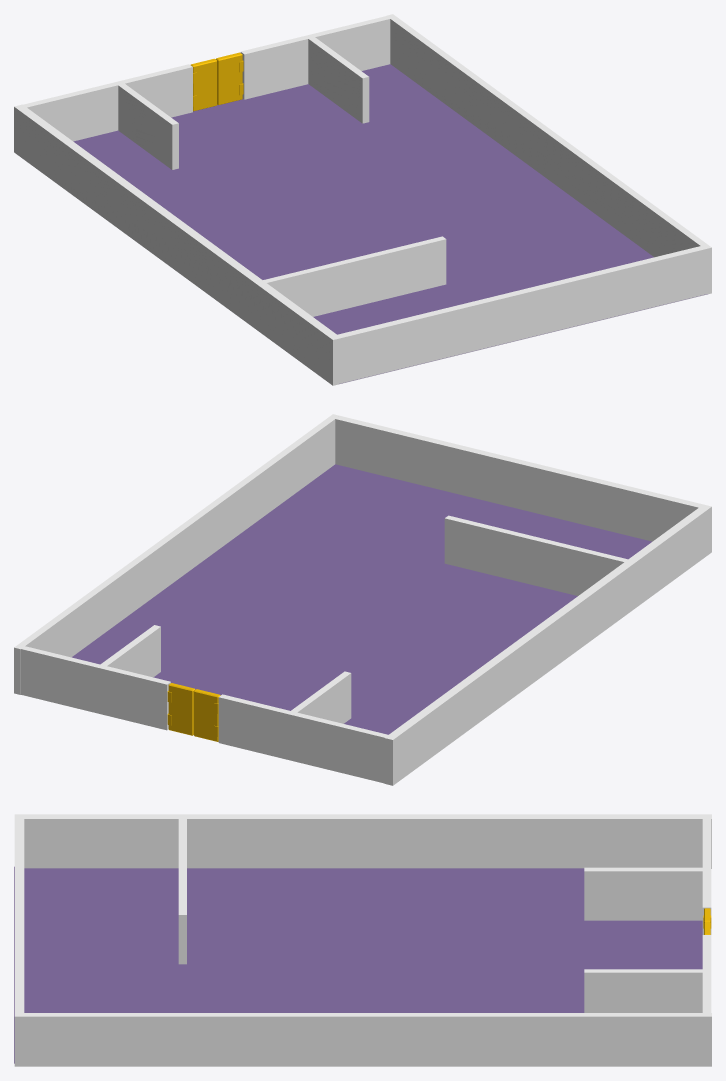
Rendered from maps_69.fbx.
3 views of the same model, one above another, from view 1: azimuth 30°, elevation 25°; view 2: azimuth 150°, elevation 25°; view 3: azimuth 270°, elevation 25° (orthographic). The views are drawn at different scales.
Visible parts, largest first — view 1: wall_01_08_geo, wall_01_05_geo, wall_01_07_geo, wall_01_06_geo, wall_01_11_geo13, wall_01_09_geo1, wall_01_09_geo, wall_01_11_geo19, wall_01_11_geo21, polySurface161, polySurface165; view 2: wall_01_08_geo, wall_01_07_geo, wall_01_05_geo, wall_01_06_geo, wall_01_09_geo, wall_01_11_geo13, wall_01_09_geo1, wall_01_11_geo21, wall_01_11_geo19, polySurface161, polySurface165; view 3: wall_01_08_geo, wall_01_06_geo, wall_01_07_geo, wall_01_11_geo21, wall_01_11_geo19, wall_01_05_geo, wall_01_11_geo13, wall_01_09_geo, wall_01_09_geo1.
Boxes of the visible parts, x1,y1,x2,y2 form: wall_01_08_geo: [73, 64, 707, 383]; wall_01_05_geo: [337, 246, 705, 383]; wall_01_07_geo: [14, 104, 341, 385]; wall_01_06_geo: [386, 14, 711, 294]; wall_01_11_geo13: [263, 236, 446, 316]; wall_01_09_geo1: [240, 16, 390, 99]; wall_01_09_geo: [23, 64, 192, 141]; wall_01_11_geo19: [308, 37, 369, 123]; wall_01_11_geo21: [118, 83, 178, 169]; polySurface161: [215, 52, 243, 104]; polySurface165: [190, 58, 217, 111]; wall_01_08_geo: [72, 464, 651, 734]; wall_01_07_geo: [384, 504, 711, 785]; wall_01_05_geo: [335, 416, 703, 541]; wall_01_06_geo: [14, 414, 339, 694]; wall_01_09_geo: [218, 694, 388, 783]; wall_01_11_geo13: [444, 515, 627, 595]; wall_01_09_geo1: [21, 646, 170, 730]; wall_01_11_geo21: [290, 671, 351, 723]; wall_01_11_geo19: [100, 625, 160, 677]; polySurface161: [167, 683, 195, 735]; polySurface165: [194, 689, 220, 741]; wall_01_08_geo: [14, 866, 702, 1063]; wall_01_06_geo: [14, 1013, 711, 1066]; wall_01_07_geo: [14, 814, 711, 868]; wall_01_11_geo21: [584, 867, 704, 920]; wall_01_11_geo19: [584, 969, 703, 1012]; wall_01_05_geo: [14, 818, 24, 1012]; wall_01_11_geo13: [178, 819, 186, 964]; wall_01_09_geo: [702, 819, 711, 934]; wall_01_09_geo1: [702, 935, 711, 1012].
Bounding box in the file's own units: 76.85 × 8.89 × 112.
2 materials, 2 textured.
